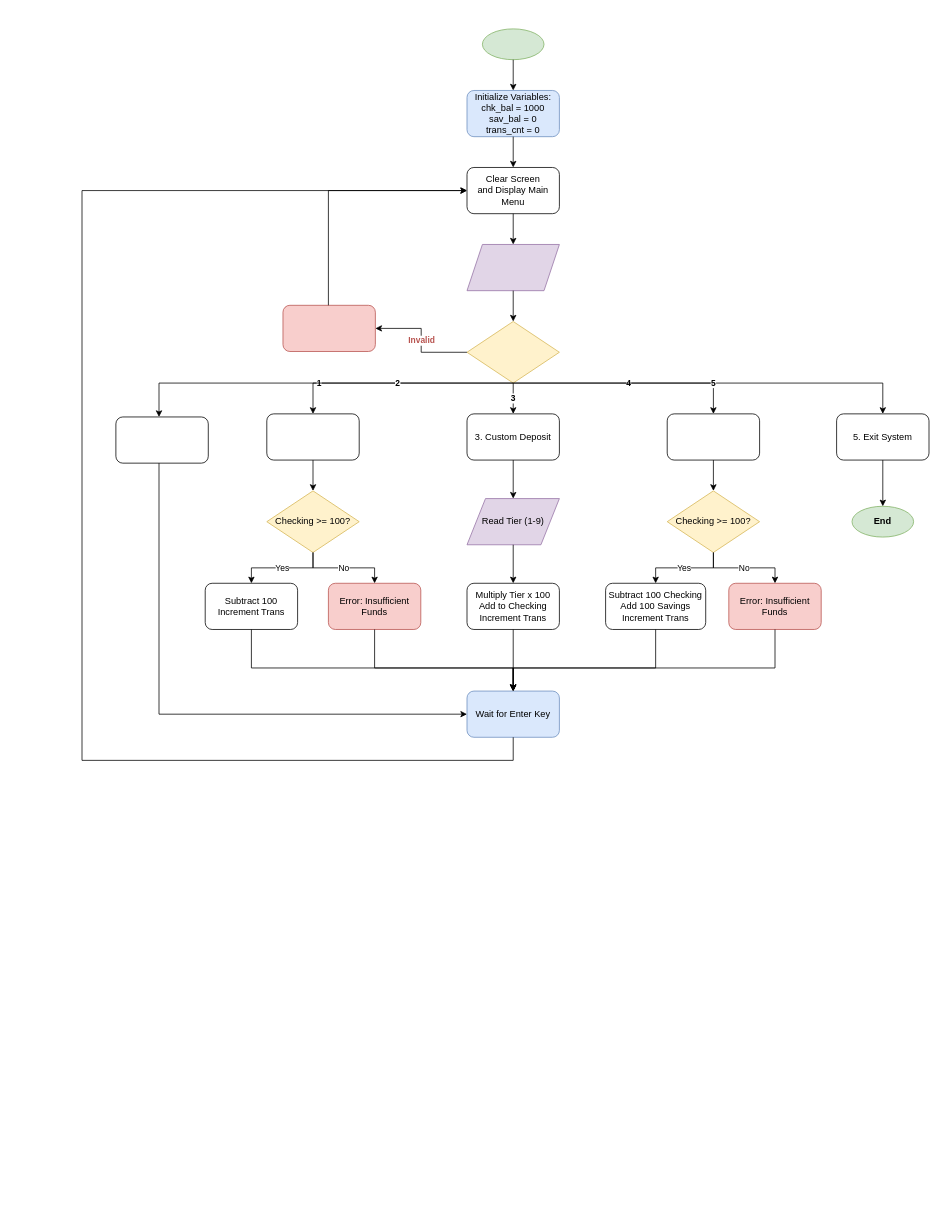
Image size: 942x1227. Some labels were removed from this diagram. Each missing label, with the centre of its shape:
1. View Balances: point 161,439
2. Fast Cash: point 312,436
4. Transfer to Savings: point 713,436
Display Invalid Input Error: point 328,328
Read User Input: point 512,267
Start: point 513,44
Valid Input?: point 512,352
